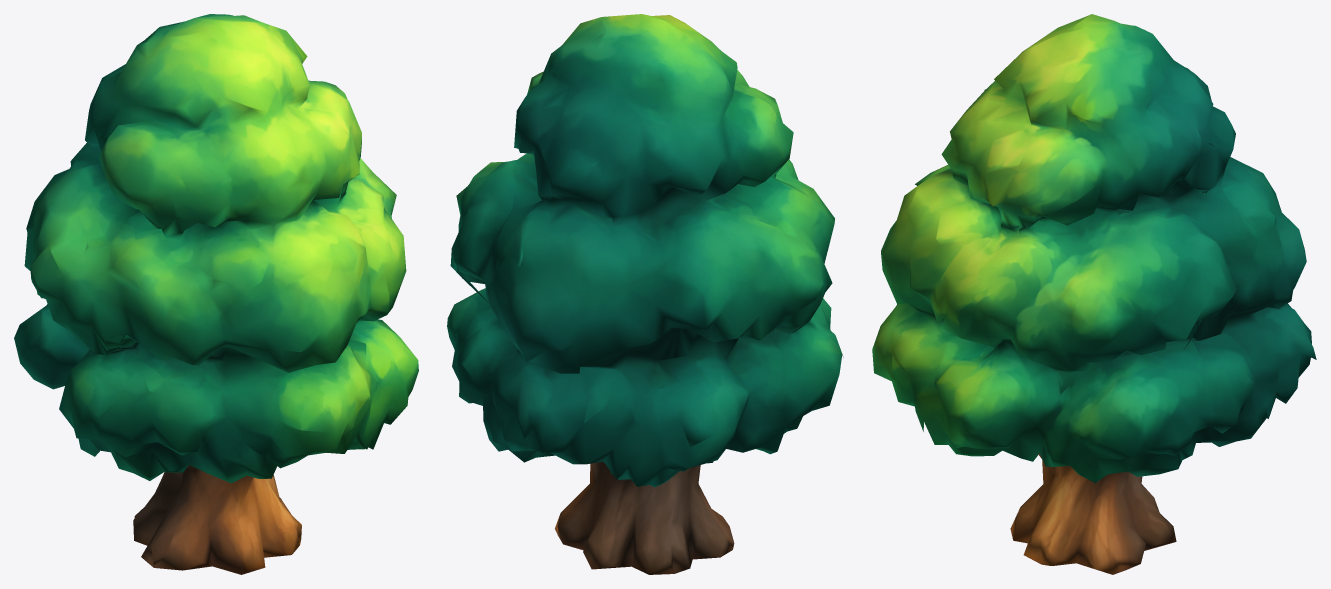
The model's file is model_raw.glb.
3 renders of one model, left to right at view 1: azimuth 30°, elevation 25°; view 2: azimuth 150°, elevation 25°; view 3: azimuth 270°, elevation 25°, orthographic. The views are drawn at different scales.
Parts seen in each view (by area): view 1: tripo_node_5159f69c-b32e-47a3-b9d5-3b972379d27a; view 2: tripo_node_5159f69c-b32e-47a3-b9d5-3b972379d27a; view 3: tripo_node_5159f69c-b32e-47a3-b9d5-3b972379d27a.
Part boxes in pixels (left/top/right/bottom): tripo_node_5159f69c-b32e-47a3-b9d5-3b972379d27a: left=14, top=14, right=418, bottom=574; tripo_node_5159f69c-b32e-47a3-b9d5-3b972379d27a: left=447, top=14, right=843, bottom=574; tripo_node_5159f69c-b32e-47a3-b9d5-3b972379d27a: left=872, top=14, right=1316, bottom=574.
Bounding box in the file's own units: 0.7195 × 1 × 0.7871.
Materials: 1 (1 with a texture image).
